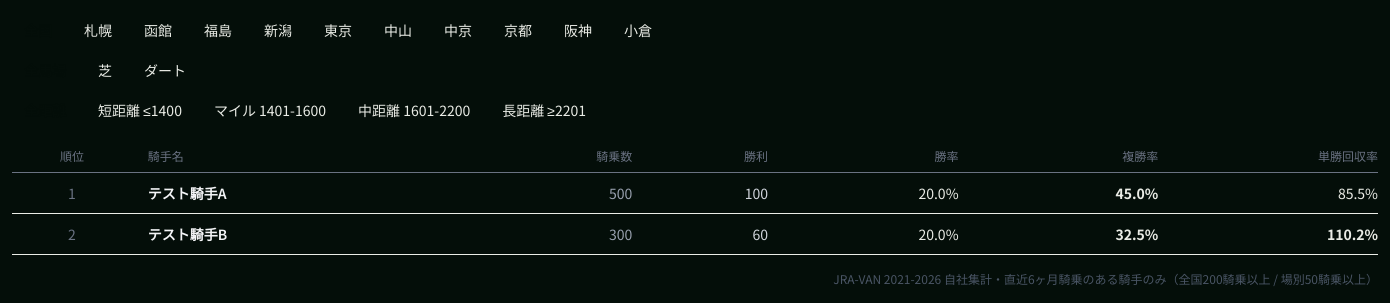
Test: JockeysClient › 競馬場「東京」・馬場「芝」に切り替えると対応行が表示される
This screenshot has width=1390, height=303.
Click the button "東京".
click(338, 30)  # box [312, 16, 364, 44]
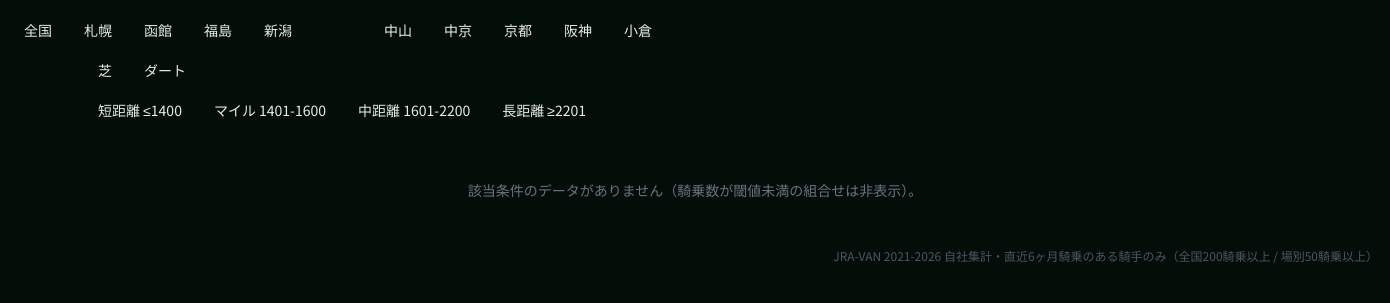
Click the button "芝".
click(105, 70)  # box [86, 56, 124, 84]
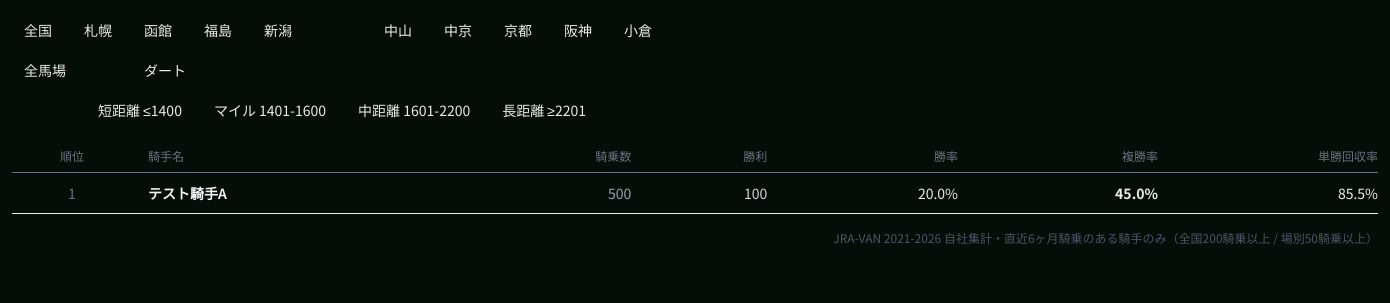
Check: the text "テスト騎手B" is not shown
Check: the text "テスト騎手A" is shown, box [148, 172, 470, 214]
